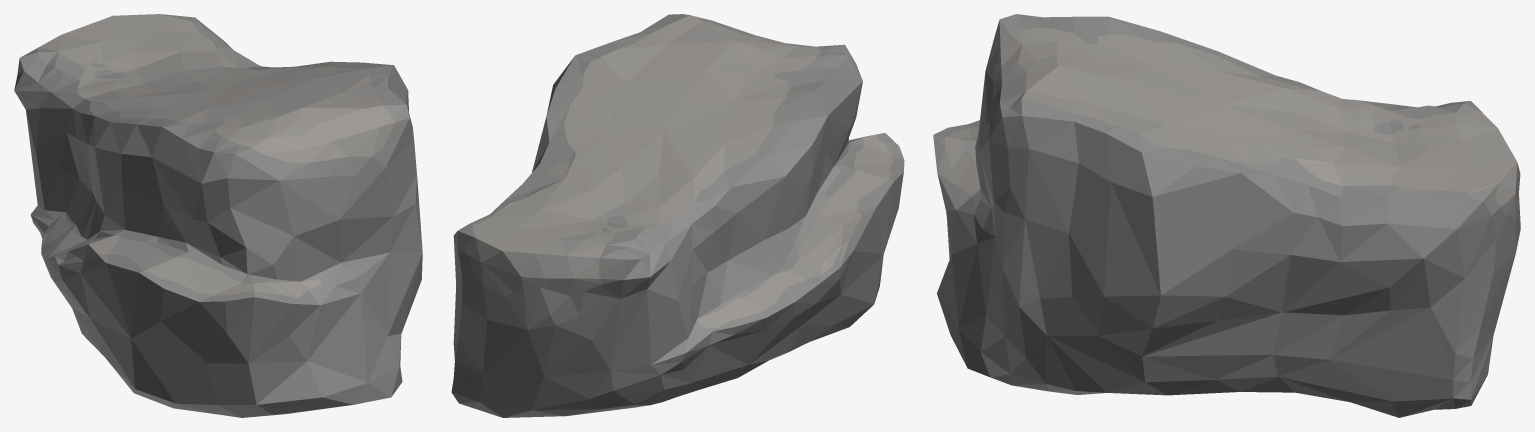
Rendered from Cavern_Floor_Narrow_Ramp_Sml-01.fbx.
The picture shows the model from 3 angles, left to right: view 1: azimuth 30°, elevation 25°; view 2: azimuth 150°, elevation 25°; view 3: azimuth 270°, elevation 25°; orthographic projection. The views are drawn at different scales.
Visible parts, largest first — view 1: Cavern_Floor_Narrow_Ramp_Sml-01; view 2: Cavern_Floor_Narrow_Ramp_Sml-01; view 3: Cavern_Floor_Narrow_Ramp_Sml-01.
Part boxes in pixels (x1=…): Cavern_Floor_Narrow_Ramp_Sml-01: x1=14, y1=14, x2=422, y2=417; Cavern_Floor_Narrow_Ramp_Sml-01: x1=451, y1=14, x2=904, y2=417; Cavern_Floor_Narrow_Ramp_Sml-01: x1=933, y1=14, x2=1520, y2=417.
Size of the model in its own units: 760 by 637 by 1092.
1 material, 1 textured.
